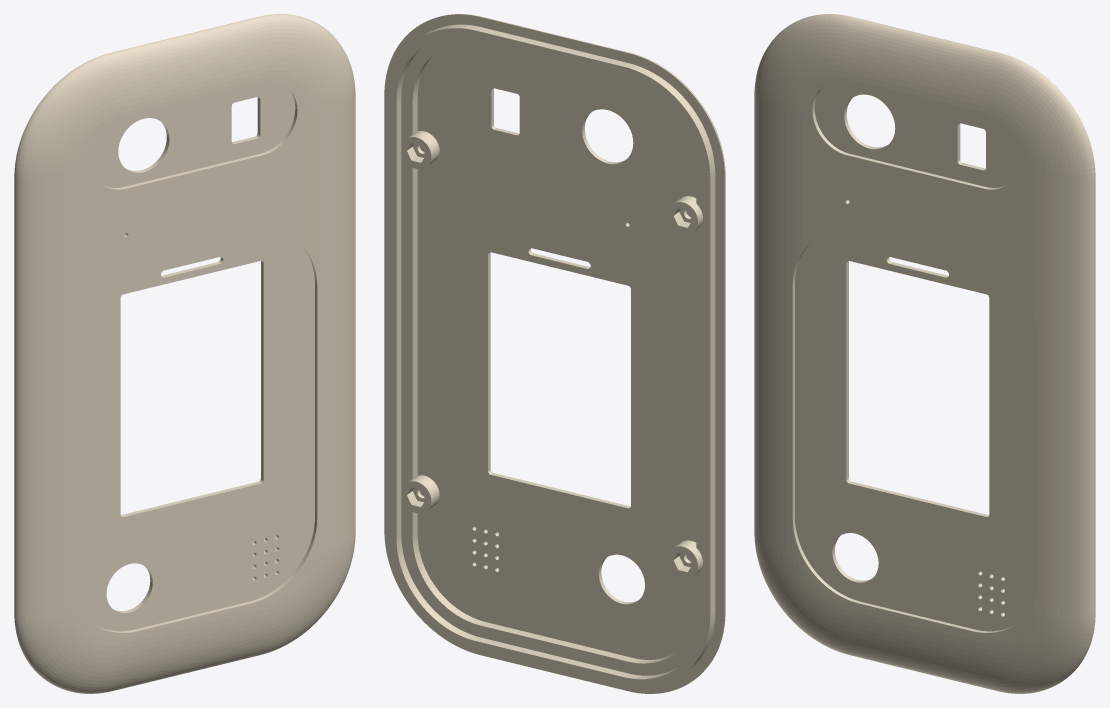
The model's file is 01_front_fascia.obj.
3 views of the same model, side by side, from view 1: azimuth 30°, elevation 25°; view 2: azimuth 150°, elevation 25°; view 3: azimuth 330°, elevation 25° (orthographic).
Visible parts, largest first — view 1: 01_front_fascia; view 2: 01_front_fascia; view 3: 01_front_fascia.
Boxes of the visible parts, bbox=[...] form: 01_front_fascia: bbox=[14, 14, 355, 693]; 01_front_fascia: bbox=[384, 14, 725, 693]; 01_front_fascia: bbox=[754, 14, 1095, 693].
Size of the model in its own units: 120 by 215 by 9.
